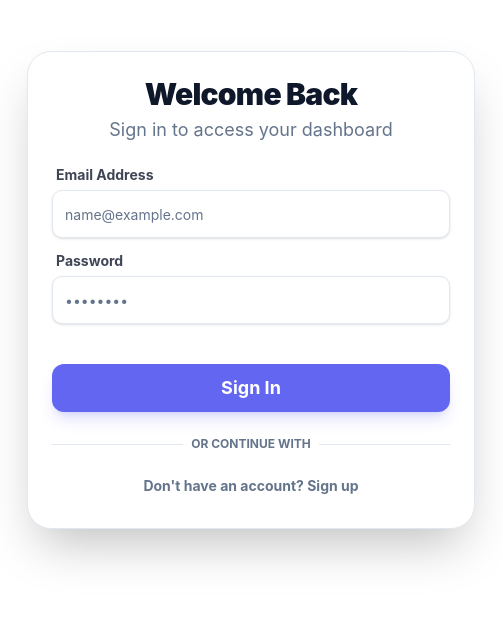
Login Component › handles generic login failure
Step 1. Type "any@test.com" into the field labelled "Email Address" → (251,214), box top-left (52, 190), bottom-right (450, 238)
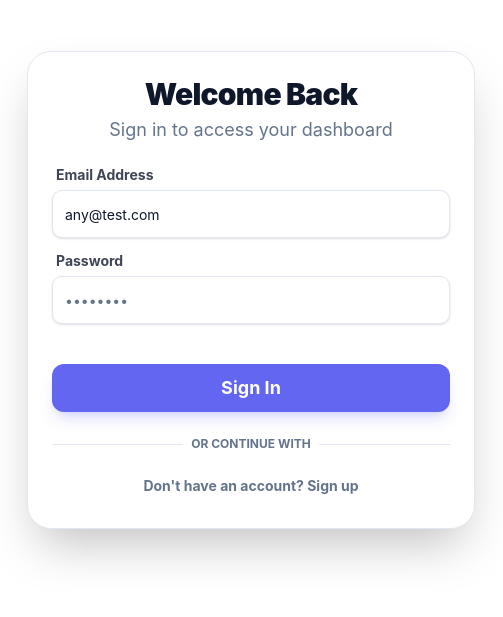
Step 2. Type "any" into the password field labelled "Password" → (251,300), box top-left (52, 276), bottom-right (450, 324)
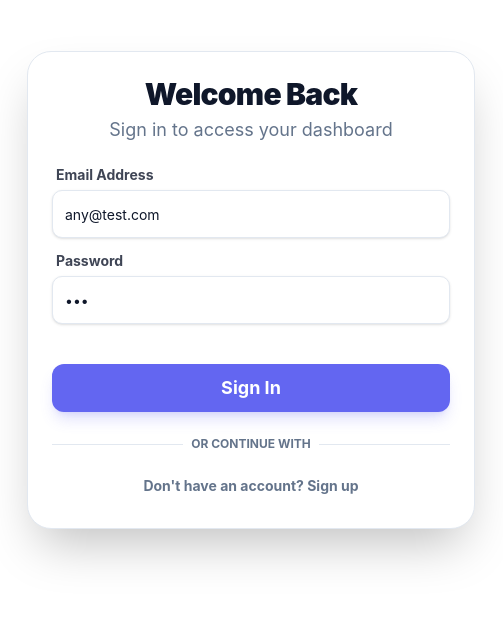
Step 3. Click the button "Sign In" → (251,388), box top-left (52, 364), bottom-right (450, 412)
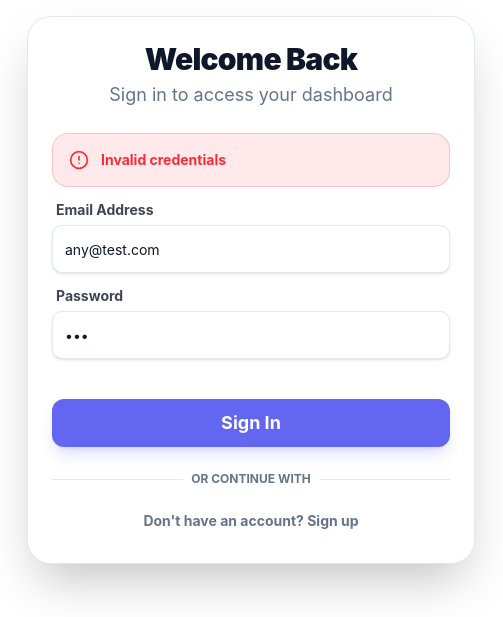
Expected: the text "Invalid credentials" is shown, top-left (52, 133), bottom-right (450, 187)
